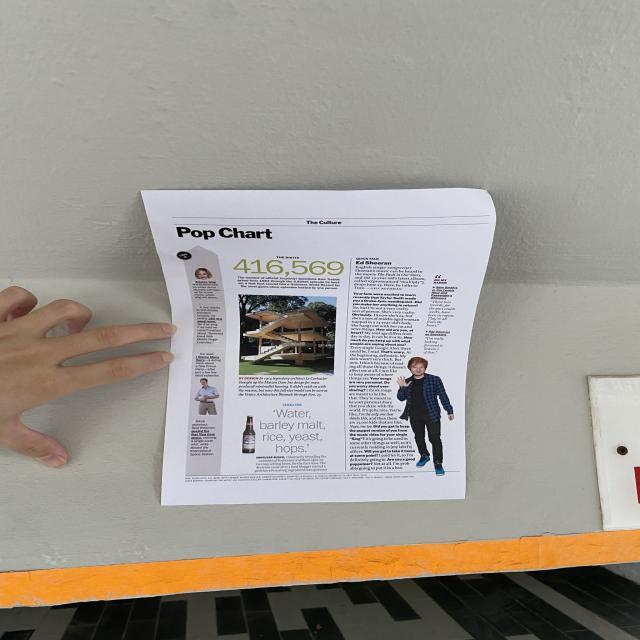document: (142, 189, 495, 505)
